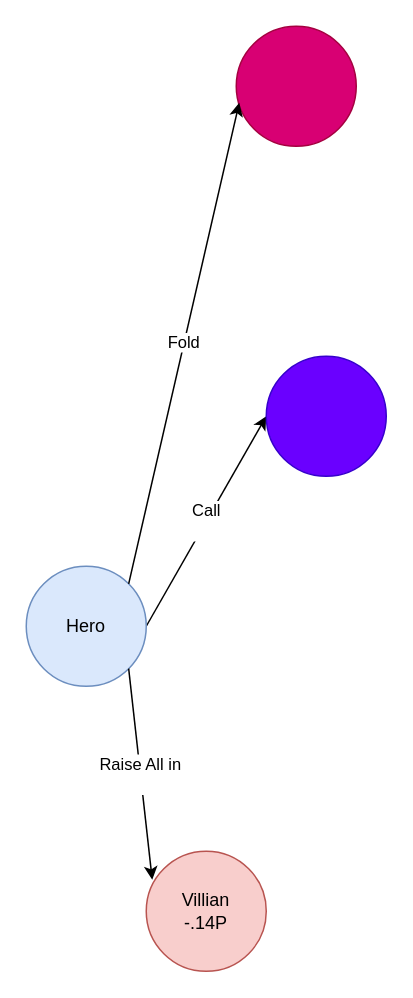
The diagram is 413 pixels wide and 998 high, and some of its shapes have lost their labels. The centre of each missing label's shape, as x and y in pixels:
"River Card -.02 P" belongs at pixel 325 415.
"X=0" belongs at pixel 295 85.
